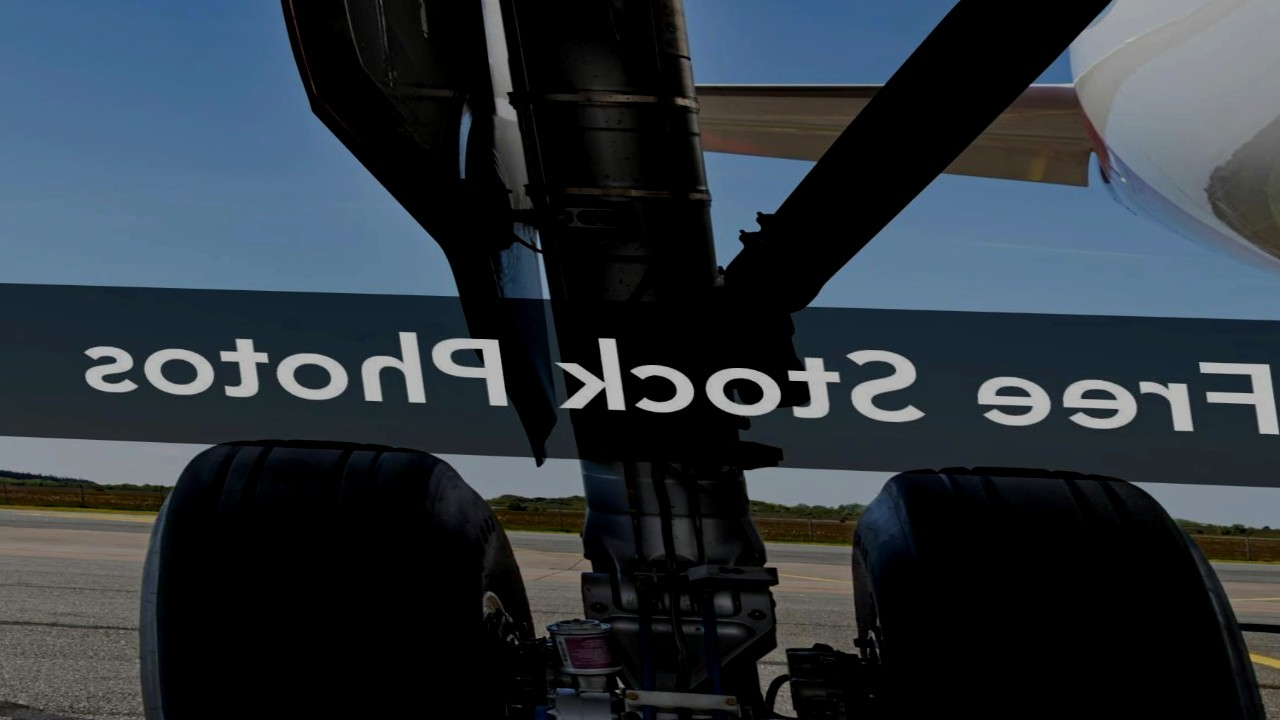wheel: (105, 433, 545, 720), (836, 462, 1280, 720)
